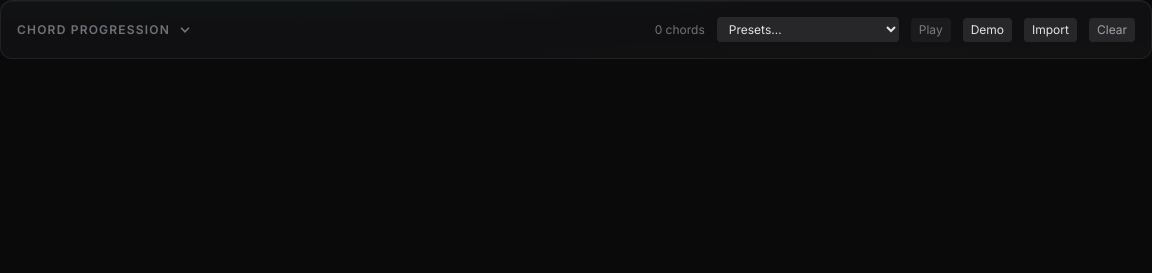
Scenario: ProgressionEditor › opening preset auto-expands the editor
Select "I–IV–V–I (G major)" in the dropdown named "load a preset" at (808, 30), box 717,17 -> 899,42
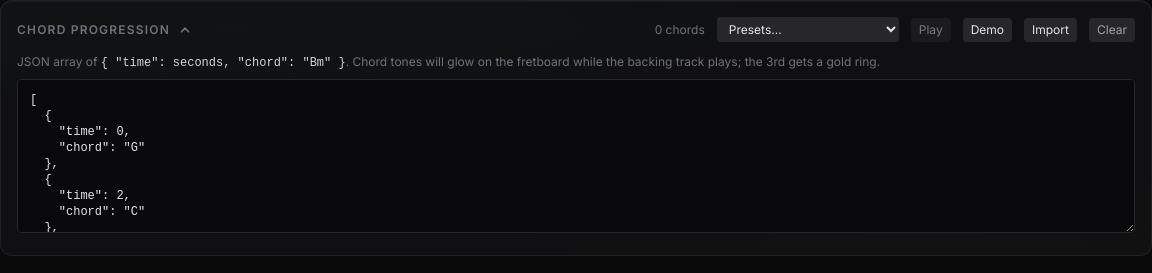
Expected: the text box is shown, 17,79 -> 1135,233
